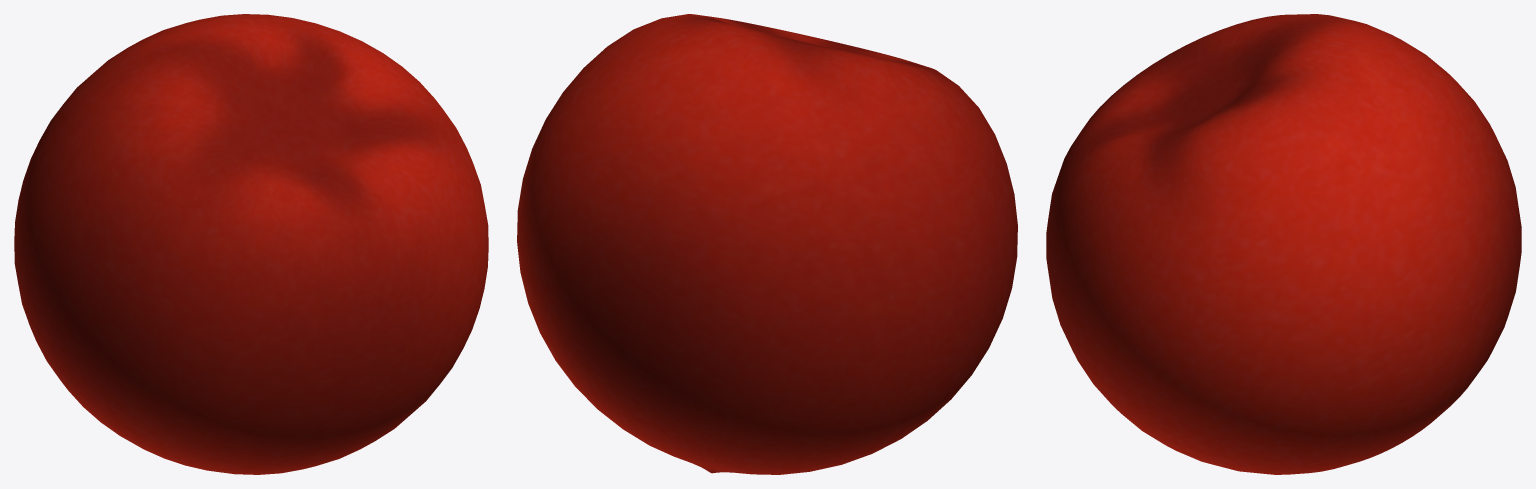
File: tomato_01.obj
3 views of the same model, side by side, from view 1: azimuth 30°, elevation 25°; view 2: azimuth 150°, elevation 25°; view 3: azimuth 270°, elevation 25° (orthographic). The views are drawn at different scales.
Parts seen in each view (by area): view 1: tomato_01; view 2: tomato_01; view 3: tomato_01.
Boxes of the visible parts, left/top/right/bottom form: tomato_01: left=14, top=14, right=488, bottom=474; tomato_01: left=517, top=14, right=1017, bottom=474; tomato_01: left=1046, top=14, right=1521, bottom=474.
Bounding box in the file's own units: 3.94 × 3.7 × 3.89.
1 material, 1 textured.
